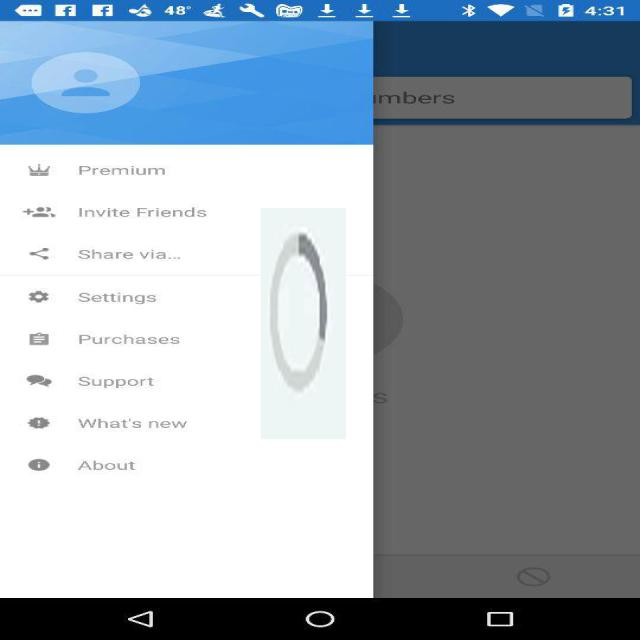misdirection: (261, 208, 346, 439)
